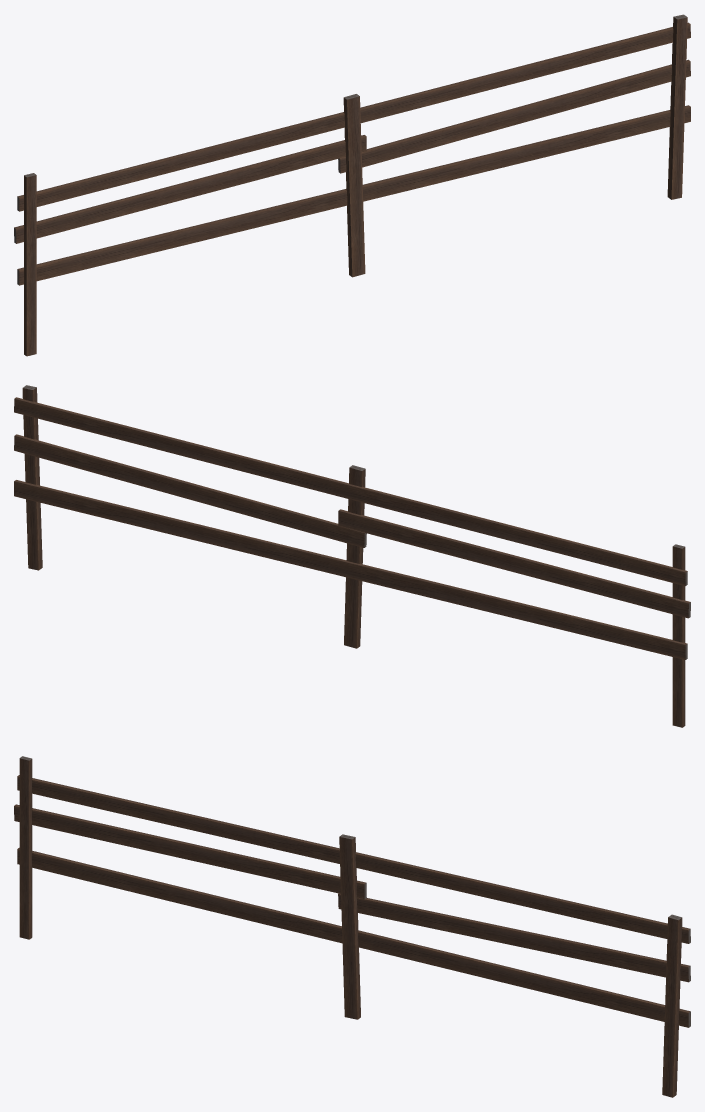
The model's file is fence07a_2t.fbx.
3 renders of one model, top to bottom at view 1: azimuth 30°, elevation 25°; view 2: azimuth 150°, elevation 25°; view 3: azimuth 330°, elevation 25°, orthographic.
Visible parts, largest first — view 1: fence07a_2t; view 2: fence07a_2t; view 3: fence07a_2t.
Boxes of the visible parts, left/top/right/bottom form: fence07a_2t: left=14, top=14, right=690, bottom=356; fence07a_2t: left=14, top=385, right=690, bottom=727; fence07a_2t: left=14, top=756, right=690, bottom=1097.
Bounding box in the file's own units: 448 × 114 × 6.51.
